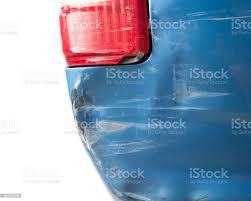rear-bumper-dent: (58, 21, 250, 200)
